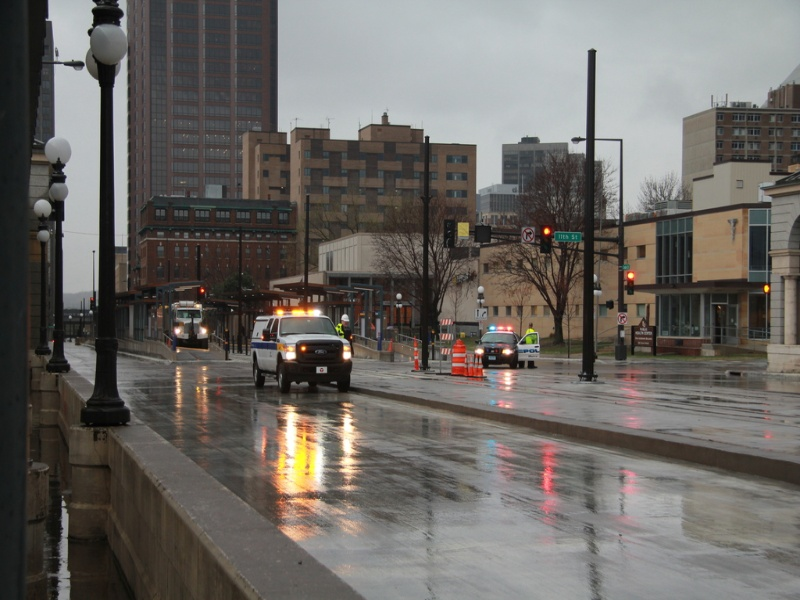no_right_turn: (523, 226, 536, 243)
